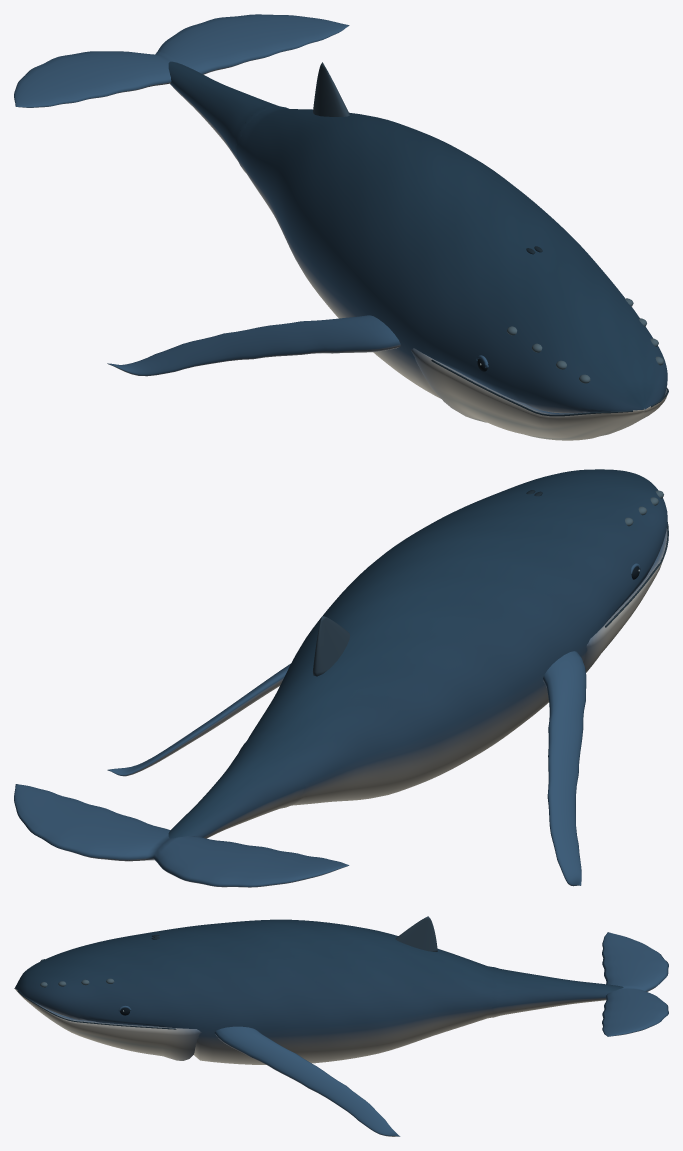
Rendered from ballena.glb.
3 renders of one model, top to bottom at view 1: azimuth 30°, elevation 25°; view 2: azimuth 150°, elevation 25°; view 3: azimuth 270°, elevation 25°, orthographic. The views are drawn at different scales.
Visible parts, largest first — view 1: Cuerpo · cabeza, ojos y dorsal, Pedúnculo y cola horizontal, Pectoral 0, Mandíbula y pliegues de garganta; view 2: Cuerpo · cabeza, ojos y dorsal, Pedúnculo y cola horizontal, Pectoral 0, Pectoral 1, Mandíbula y pliegues de garganta; view 3: Cuerpo · cabeza, ojos y dorsal, Pedúnculo y cola horizontal, Pectoral 1, Mandíbula y pliegues de garganta.
Boxes of the visible parts, x1,y1,x2,y2 form: Cuerpo · cabeza, ojos y dorsal: [236, 62, 667, 413]; Pedúnculo y cola horizontal: [14, 14, 349, 171]; Pectoral 0: [107, 315, 400, 376]; Mandíbula y pliegues de garganta: [411, 348, 668, 440]; Cuerpo · cabeza, ojos y dorsal: [245, 469, 667, 805]; Pedúnculo y cola horizontal: [14, 734, 349, 887]; Pectoral 0: [543, 651, 586, 886]; Pectoral 1: [107, 663, 290, 776]; Mandíbula y pliegues de garganta: [583, 522, 668, 672]; Cuerpo · cabeza, ojos y dorsal: [15, 916, 498, 1064]; Pedúnculo y cola horizontal: [492, 932, 668, 1036]; Pectoral 1: [214, 1026, 400, 1136]; Mandíbula y pliegues de garganta: [14, 988, 201, 1060].
Size of the model in its own units: 21.3 by 10.06 by 39.75.
